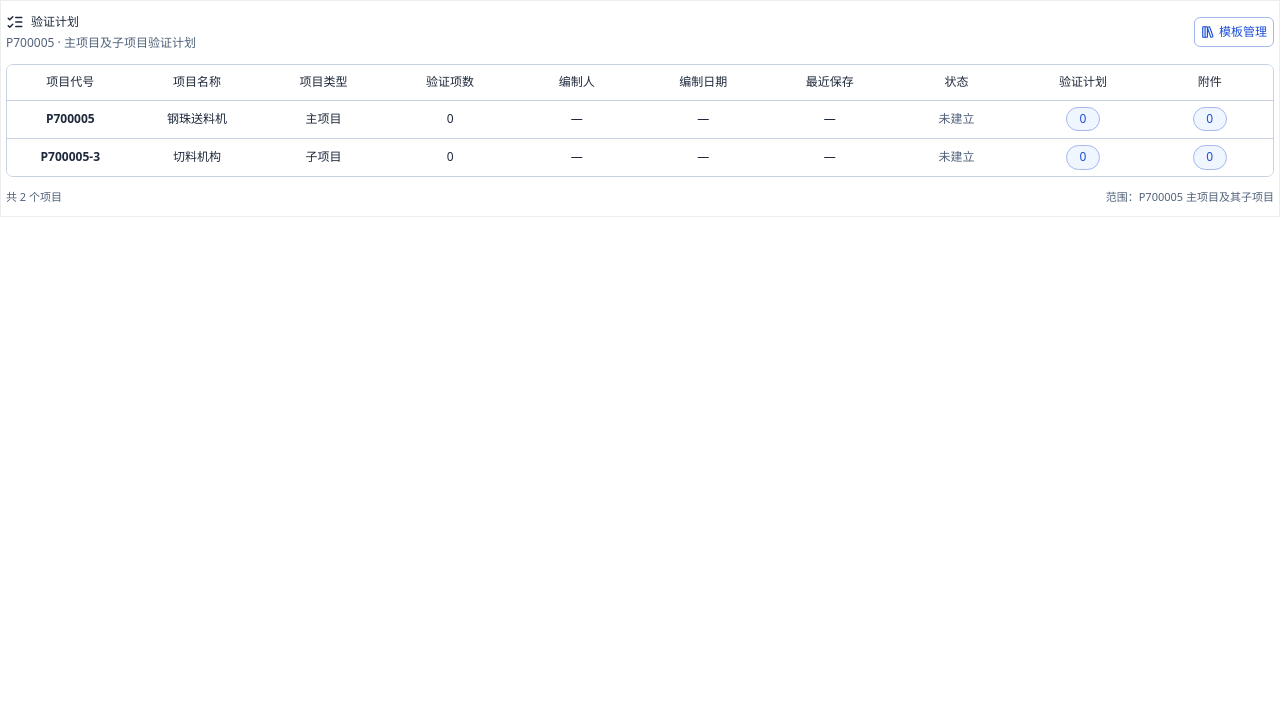
Test case: ValidationPlanManager › 支持全选和取消全选当前检查项列表
Click the row "P700005-3 切料机构 子项目 0 — — — 未建立 0 0". click: click(640, 157)
box: [7,138,1273,176]
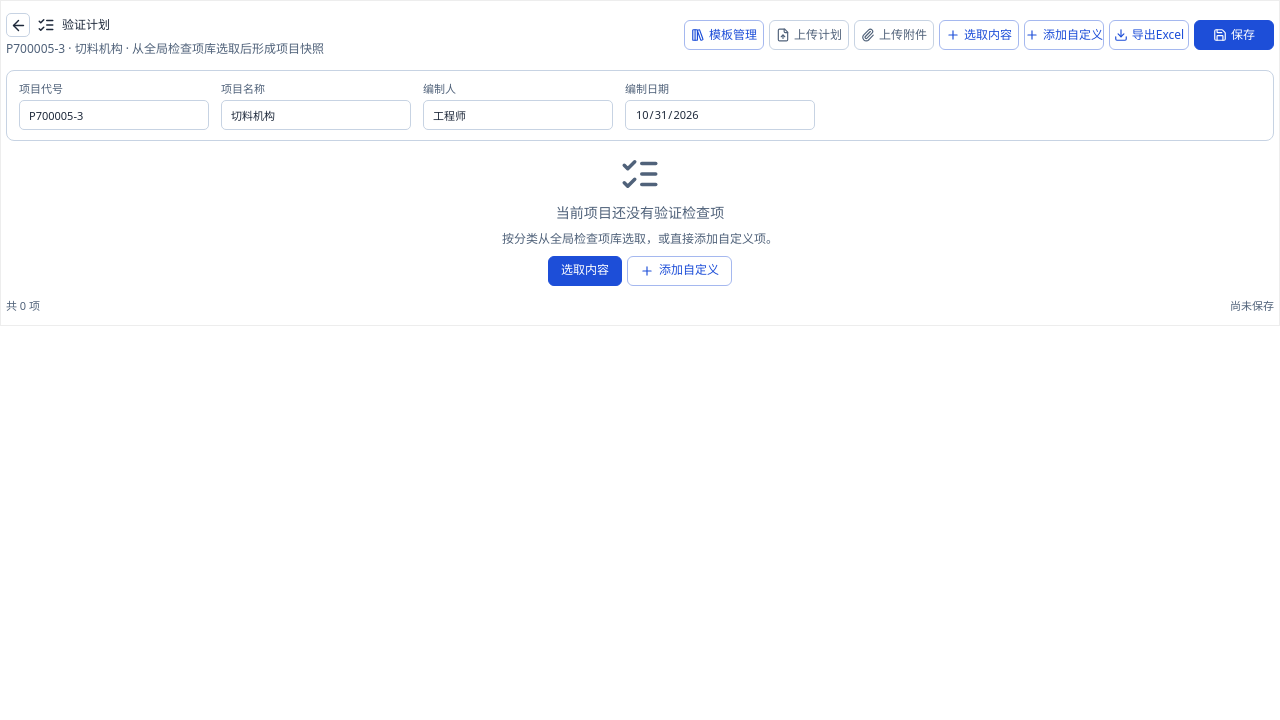
Click the button "选取内容" in the row of "P700005-3 · 切料机构 · 从全局检查项库选取后形成项目快照". click: click(979, 35)
box: [939,20,1019,50]
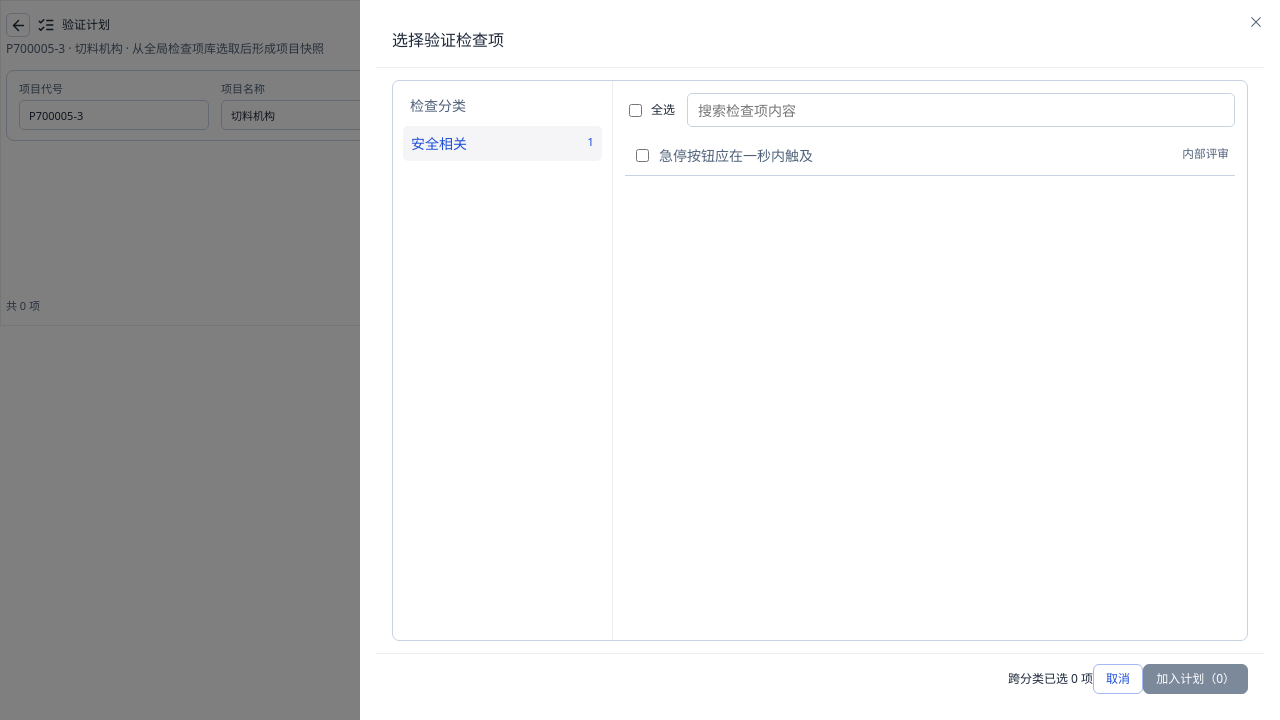
Check: the label "全选" is shown, box [625,100,675,120]
Click the checkbox labelled "全选". click: click(636, 110)
box: [629,104,642,116]
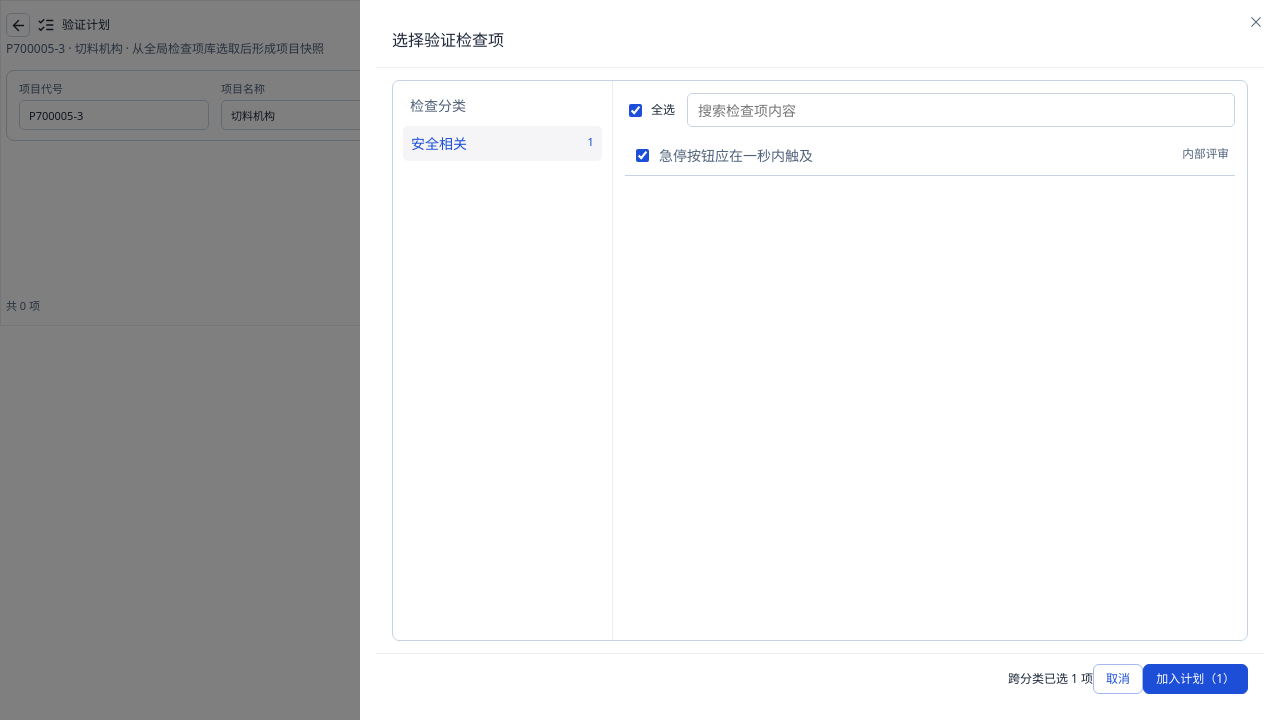
Check: the text "已选 1 项" is shown, box [1008,670,1093,687]
Click the checkbox labelled "全选". click: click(636, 110)
box: [629,104,642,116]
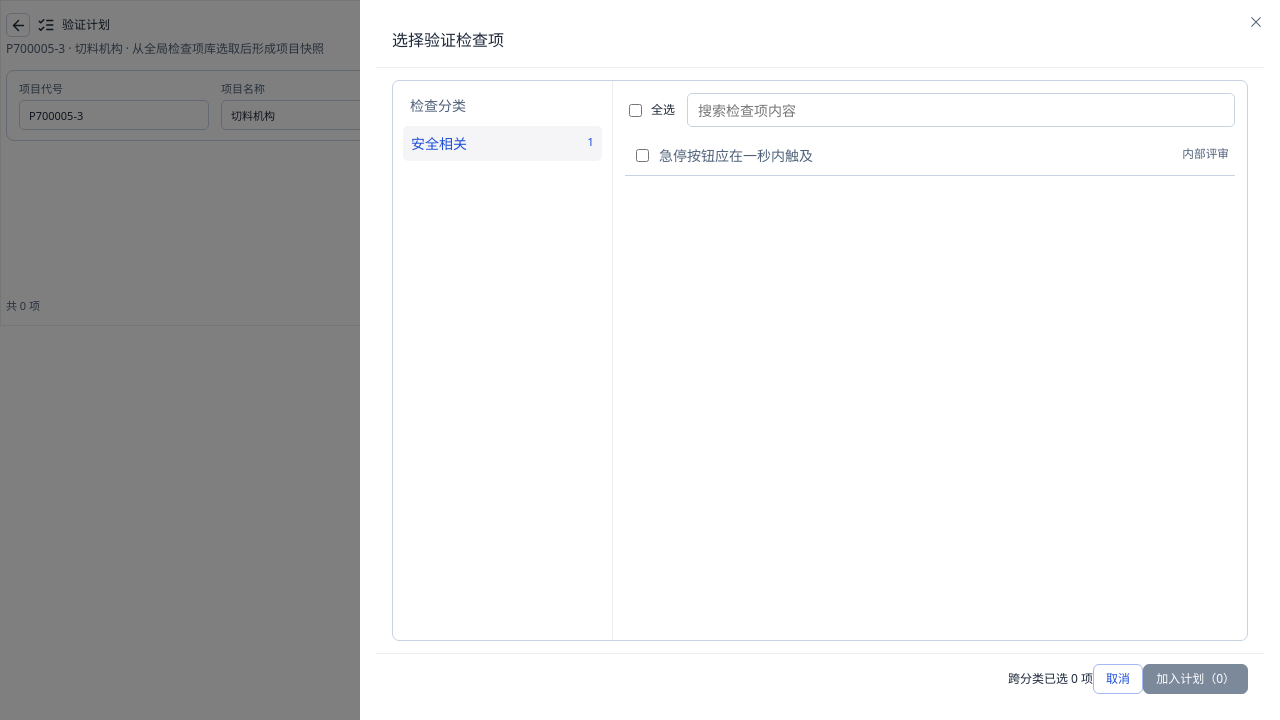
Check: the text "已选 0 项" is shown, box [1008,670,1093,687]
